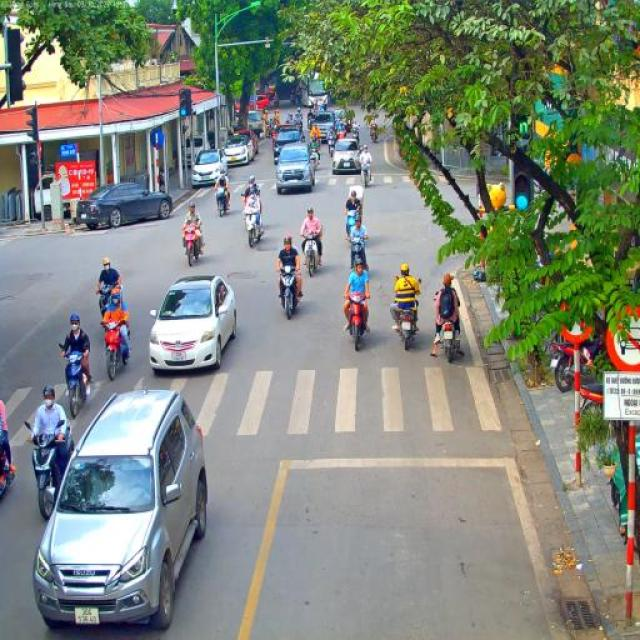bus: (510, 64, 574, 211), (301, 70, 330, 110)
car: (32, 388, 209, 634), (148, 275, 238, 375), (76, 182, 174, 230), (276, 142, 316, 194), (190, 148, 230, 191), (272, 125, 306, 165), (332, 137, 362, 174), (222, 133, 254, 167), (234, 129, 258, 157), (312, 120, 333, 144), (271, 122, 294, 138), (313, 112, 336, 127), (332, 110, 343, 126)
motorcycle: (23, 418, 78, 522), (548, 338, 602, 393), (58, 344, 91, 418), (394, 275, 421, 350), (100, 318, 130, 381), (342, 290, 371, 352), (278, 265, 304, 320), (433, 317, 463, 363), (95, 284, 125, 320), (580, 381, 616, 411), (182, 222, 204, 268), (302, 232, 322, 278), (243, 209, 264, 249), (1, 450, 16, 501), (349, 236, 366, 275), (213, 183, 231, 217), (346, 210, 360, 240), (358, 160, 372, 190), (309, 148, 322, 172), (328, 135, 338, 157), (369, 122, 379, 142), (294, 118, 304, 136), (268, 124, 276, 140), (350, 128, 360, 140), (336, 130, 346, 142), (306, 116, 314, 130)
truck: (32, 164, 84, 224), (246, 110, 264, 139), (256, 95, 270, 114)
